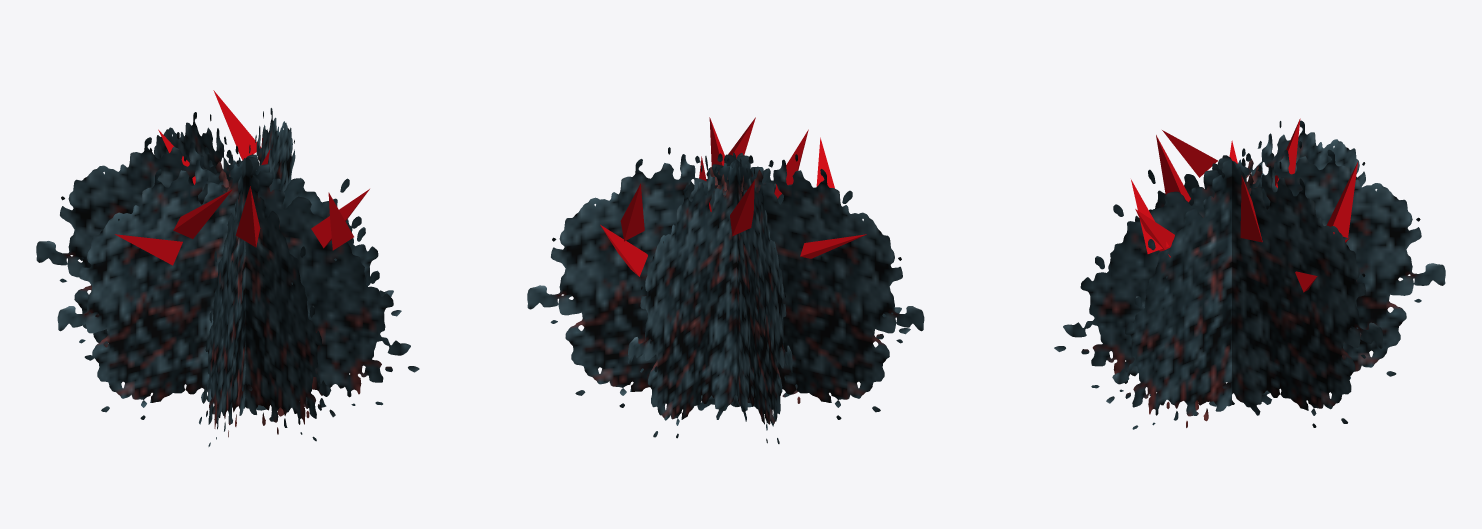
Rendered from Thorns.fbx.
3 renders of one model, left to right at view 1: azimuth 30°, elevation 25°; view 2: azimuth 150°, elevation 25°; view 3: azimuth 270°, elevation 25°, orthographic.
Visible parts, largest first — view 1: Bushes3, Cone.008, Cone, Cone.007, Cone.004, Cone.006, Cone.001; view 2: Bushes3, Cone.002, Cone.007, Cone.005, Cone; view 3: Bushes3, Cone.007, Cone.003, Cone.008, Cone.004, Cone.001.
Boxes of the visible parts, x1,y1,x2,y2 form: Bushes3: (36,108,419,446); Cone.008: (173,189,232,238); Cone: (115,234,182,265); Cone.007: (213,90,261,160); Cone.004: (235,186,260,247); Cone.006: (328,192,353,250); Cone.001: (311,189,369,248); Bushes3: (527,147,924,443); Cone.002: (600,224,647,276); Cone.007: (620,183,644,241); Cone.005: (730,180,754,236); Cone: (800,234,866,258); Bushes3: (1054,120,1445,429); Cone.007: (1326,162,1357,237); Cone.003: (1240,175,1262,242); Cone.008: (1162,130,1217,177); Cone.004: (1156,135,1190,202); Cone.001: (1135,209,1174,257).
Bounding box in the file's own units: 142 × 100 × 142.
